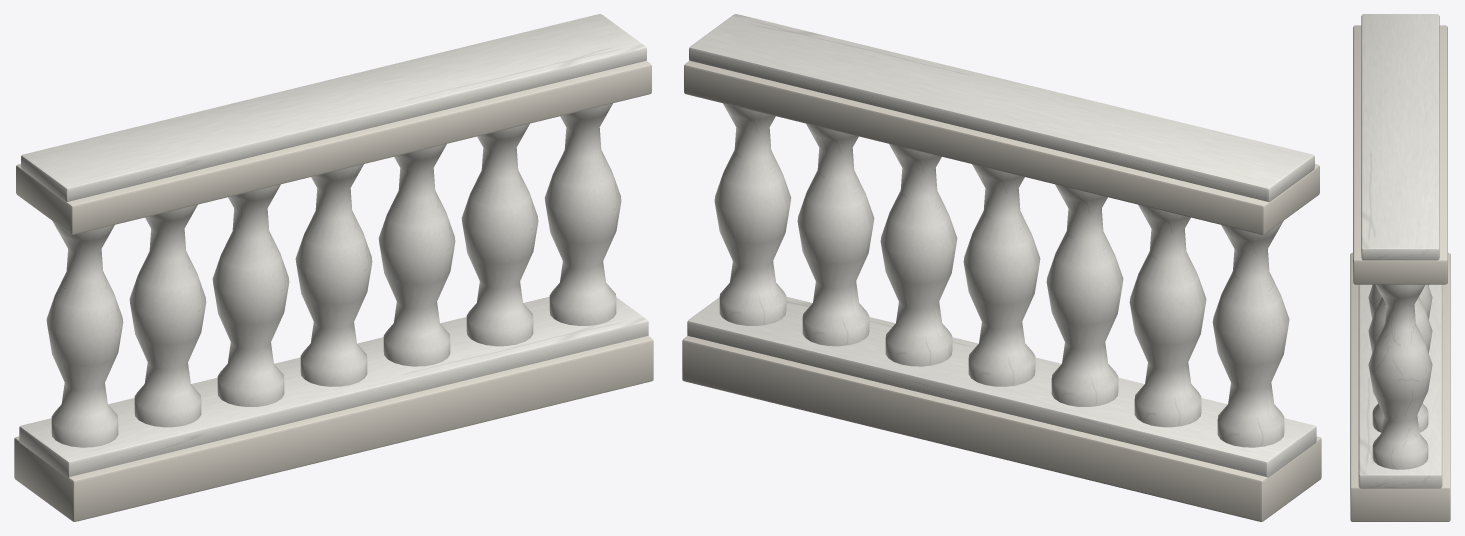
File: th35_balustrade.glb
3 renders of one model, left to right at view 1: azimuth 30°, elevation 25°; view 2: azimuth 150°, elevation 25°; view 3: azimuth 270°, elevation 25°, orthographic. The views are drawn at different scales.
Parts seen in each view (by area): view 1: Cube.003, Cube, Cube.001, Cube.002, Balustre, Balustre.001, Balustre.003, Balustre.006, Balustre.004, Balustre.005, Balustre.002; view 2: Cube.003, Cube, Cube.001, Cube.002, Balustre, Balustre.001, Balustre.003, Balustre.006, Balustre.004, Balustre.005, Balustre.002; view 3: Cube.003, Balustre.006, Cube, Cube.001, Cube.002, Balustre.005, Balustre.004.
Part boxes in pixels (x1,y1,x2,y2): Cube.003: [21, 14, 646, 201]; Cube: [14, 336, 653, 521]; Cube.001: [19, 296, 648, 477]; Cube.002: [16, 61, 651, 234]; Balustre: [46, 221, 123, 447]; Balustre.001: [129, 204, 206, 427]; Balustre.003: [295, 164, 372, 386]; Balustre.006: [544, 103, 621, 325]; Balustre.004: [378, 144, 455, 366]; Balustre.005: [461, 123, 538, 346]; Balustre.002: [212, 184, 289, 406]; Cube.003: [689, 14, 1314, 201]; Cube: [682, 336, 1321, 521]; Cube.001: [687, 296, 1316, 477]; Cube.002: [684, 61, 1319, 234]; Balustre: [1212, 221, 1289, 447]; Balustre.001: [1129, 204, 1206, 427]; Balustre.003: [963, 164, 1040, 386]; Balustre.006: [714, 103, 791, 325]; Balustre.004: [880, 144, 957, 366]; Balustre.005: [797, 123, 874, 346]; Balustre.002: [1046, 184, 1123, 406]; Cube.003: [1361, 14, 1439, 260]; Balustre.006: [1368, 284, 1432, 469]; Cube: [1350, 252, 1450, 521]; Cube.001: [1358, 284, 1442, 488]; Cube.002: [1353, 25, 1447, 284]; Balustre.005: [1368, 297, 1432, 432]; Balustre.004: [1368, 284, 1432, 394].
Bounding box in the file's own units: 2 × 1.08 × 0.36.
Materials: 2 (1 with a texture image).
